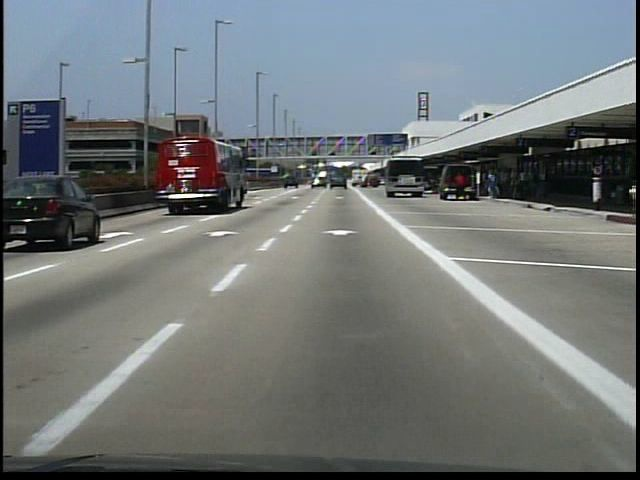person: (454, 167, 470, 204)
